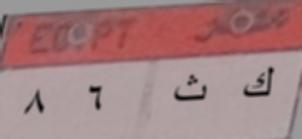6: (85, 80, 105, 113)
8: (20, 87, 47, 118)
kaaf: (237, 65, 275, 102)
thaa: (172, 73, 209, 106)
